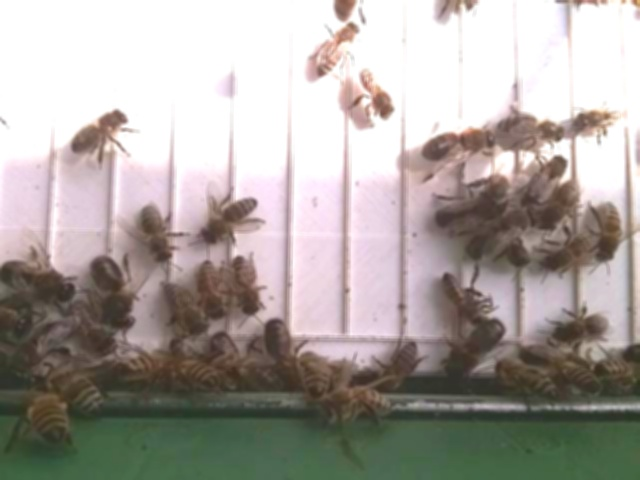Drone: (461, 203, 542, 265), (88, 253, 138, 333), (446, 314, 508, 377), (0, 256, 78, 305), (418, 124, 501, 166), (433, 191, 514, 233), (259, 316, 301, 391)
Worker: (70, 106, 130, 157), (200, 194, 260, 244), (313, 19, 362, 78), (160, 277, 209, 336), (522, 153, 571, 209), (441, 269, 490, 323), (540, 230, 595, 275), (139, 202, 176, 267), (195, 256, 231, 321), (496, 108, 563, 142), (550, 311, 612, 347), (594, 200, 627, 267), (359, 66, 395, 122), (234, 253, 264, 318), (570, 104, 630, 134)
